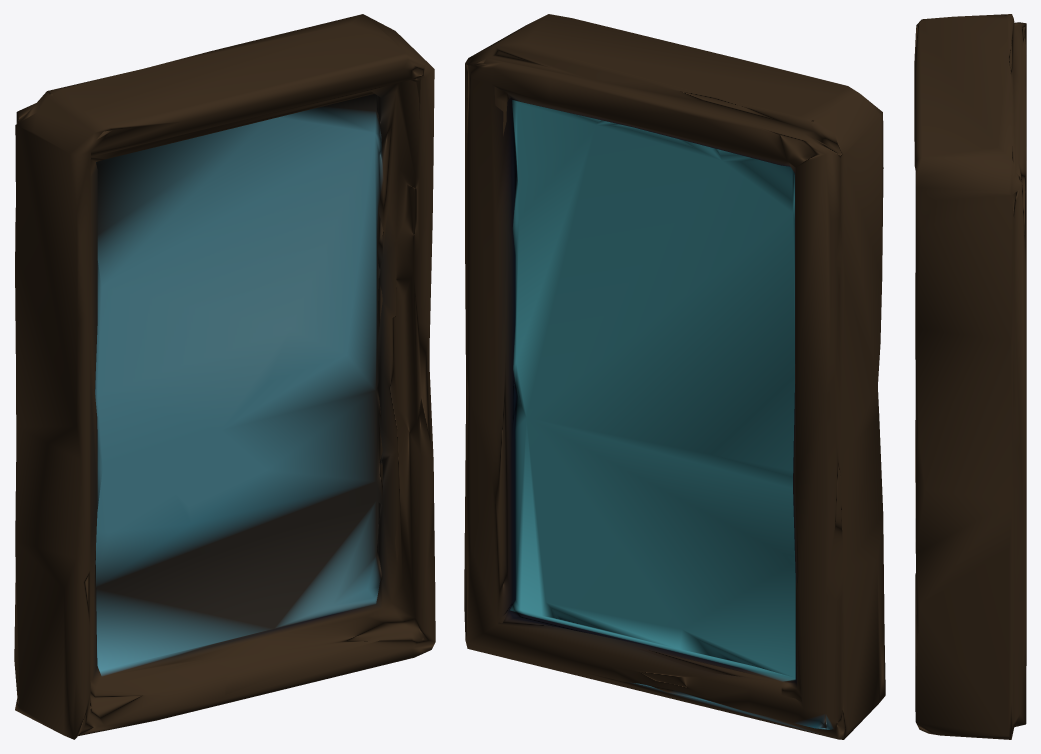
File: gen3d-mirror-lod1.glb
3 renders of one model, left to right at view 1: azimuth 30°, elevation 25°; view 2: azimuth 150°, elevation 25°; view 3: azimuth 270°, elevation 25°, orthographic. The views are drawn at different scales.
Parts seen in each view (by area): view 1: part_0; view 2: part_0; view 3: part_0.
Part boxes in pixels (x1,y1,x2,y2): part_0: [14, 14, 435, 739]; part_0: [464, 14, 885, 739]; part_0: [914, 14, 1026, 739].
Size of the model in its own units: 0.65 by 0.9999 by 0.1784.
